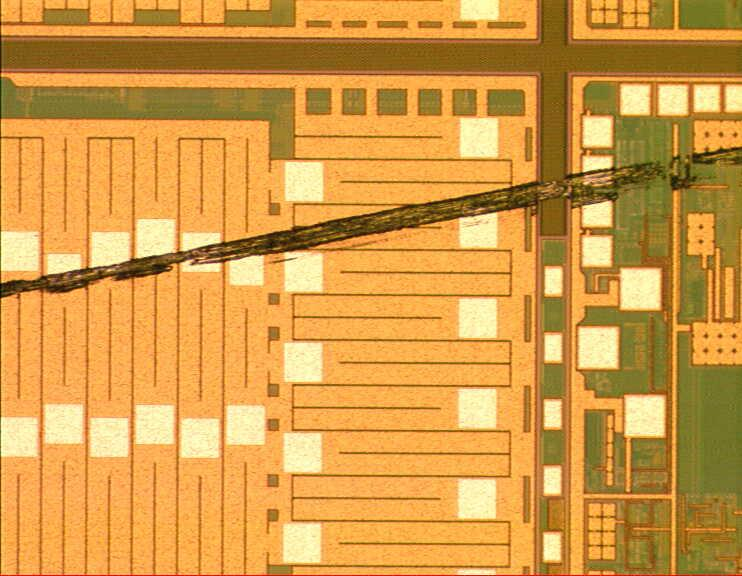SCRATCH: (1, 142, 742, 312)
